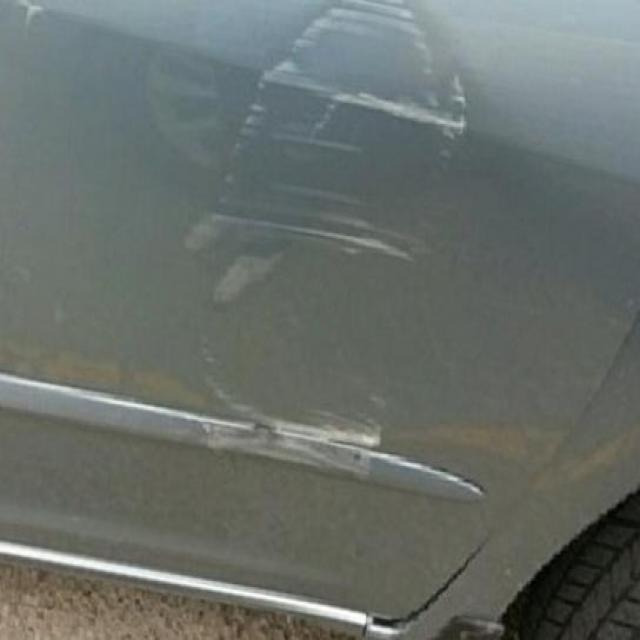scratch: (156, 7, 497, 513)
